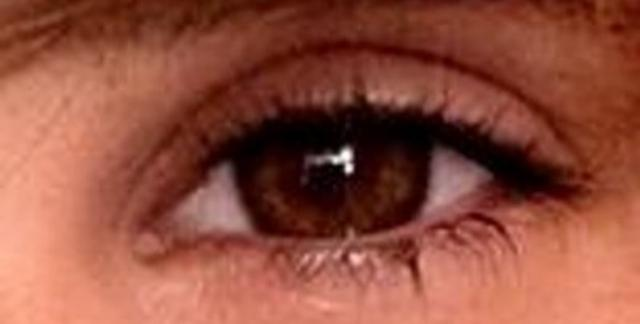eye: (228, 106, 434, 243)
